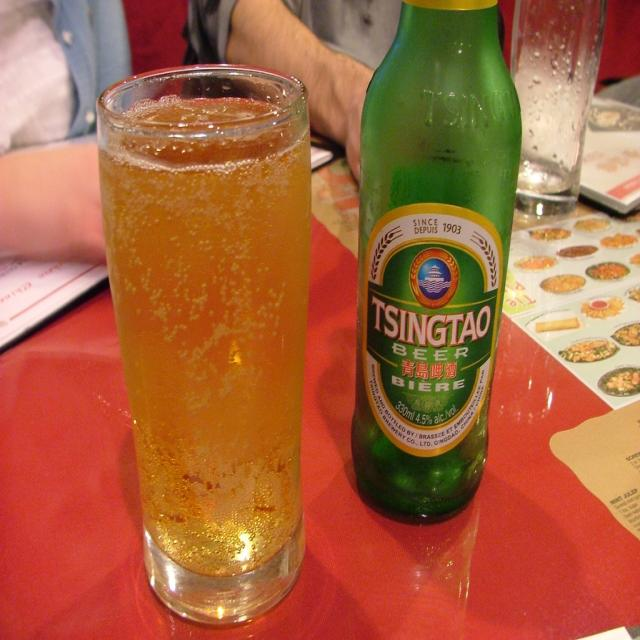tsingtao: (365, 202, 504, 460)
